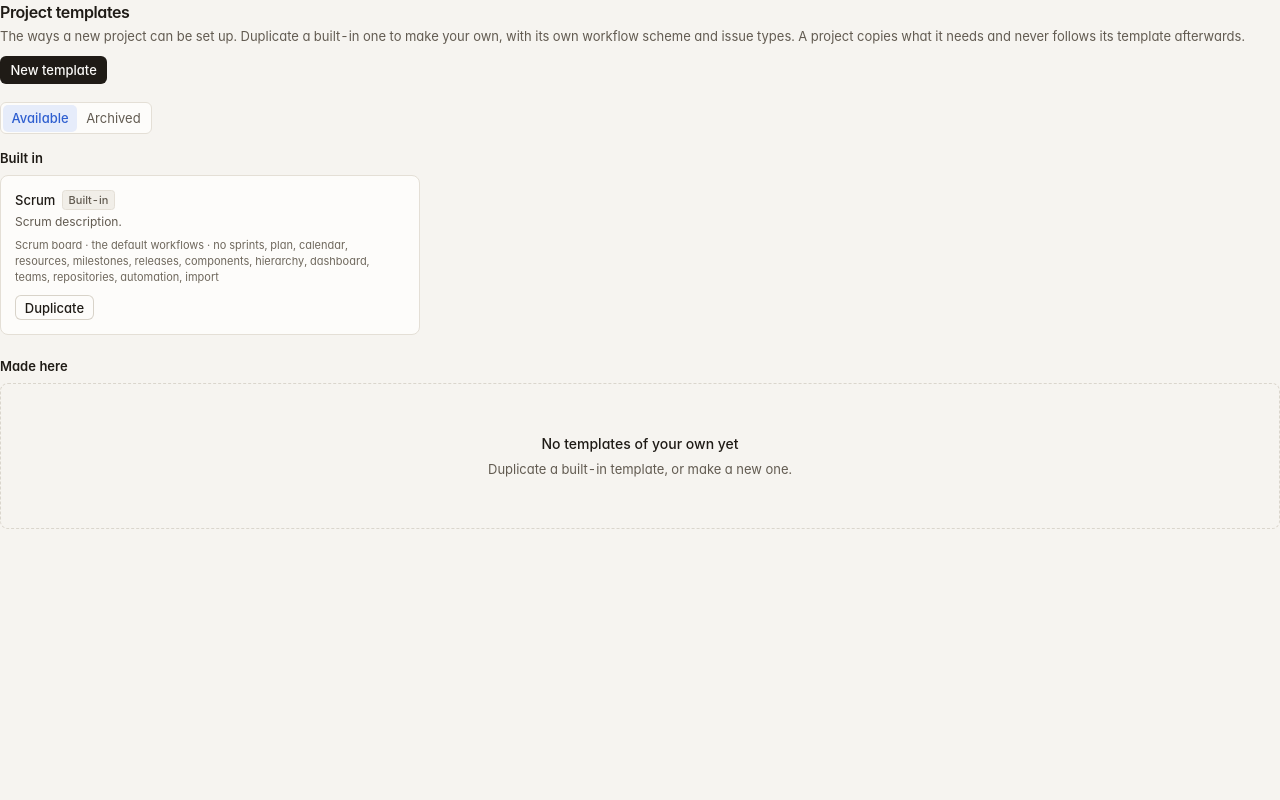
Test: the project templates page › duplicates a built-in template by its key and opens the copy to edit
This screenshot has width=1280, height=800.
Click the button "Duplicate" at (54, 308), box [15,295,94,320]
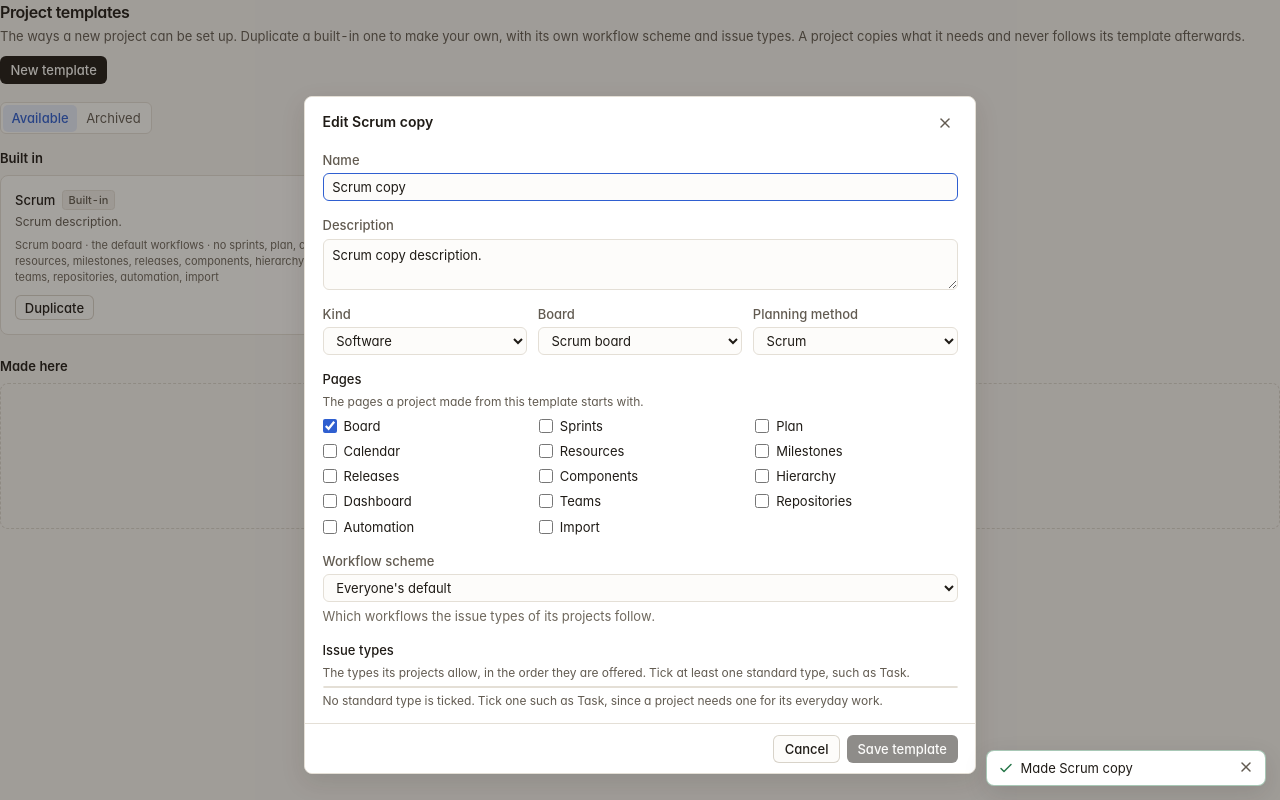
Check: the dialog "Edit Scrum copy" is shown, box [304,96,976,774]
